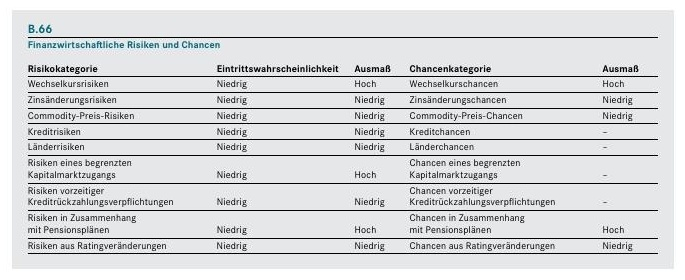table: (0, 0, 685, 280)
